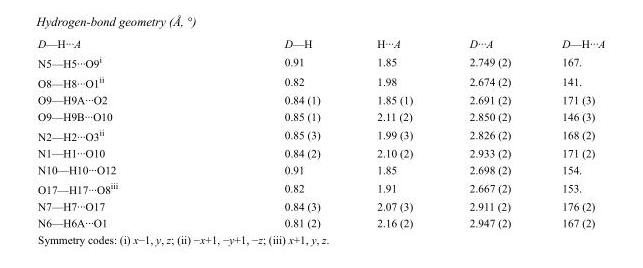table: (37, 36, 604, 228)
table column: (37, 36, 200, 228), (200, 36, 347, 228), (440, 36, 535, 228), (347, 36, 440, 228), (535, 36, 604, 228)
table row: (37, 51, 604, 71), (37, 71, 604, 91), (37, 124, 604, 144), (37, 177, 604, 197), (37, 107, 604, 124), (37, 160, 604, 177), (37, 197, 604, 214), (37, 91, 604, 107), (37, 144, 604, 160), (37, 36, 604, 51), (37, 214, 604, 228)
